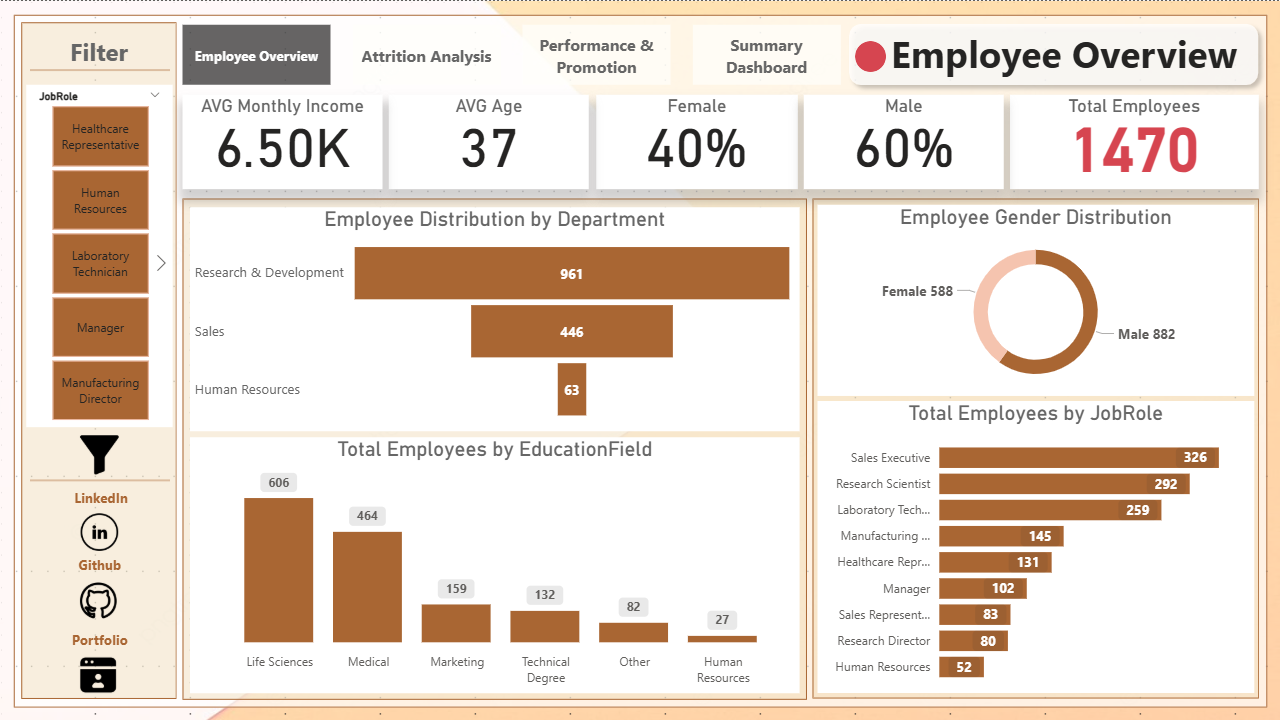

Layout of this report page (visuals, bound fields, positions):
{"tool":"powerbi","page":{"name":"Employee Overview","canvas":[1280,720],"ordinal":0},"visuals":[{"type":"shape","box":[13.9,13.9,1253.6,692.9],"z":0},{"type":"shape","box":[840.3,13.9,427.1,79.3],"z":1000},{"type":"shape","box":[812.3,197.8,446.6,500.1],"z":2000},{"type":"shape","box":[182.9,197.8,624.5,501.3],"z":3000},{"type":"textbox","box":[868.2,22.3,391,62.6],"z":4000},{"type":"shape","box":[854.6,39.8,31.1,31.1],"z":5000},{"type":"card","title":"Total Employees","fields":{"Values":["Table.Total Employees"]},"box":[1010.1,93.3,248.8,94.5],"z":6000},{"type":"card","title":"Female","fields":{"Values":["Table.Female %"]},"box":[595.9,93.3,201.5,94.5],"z":7000},{"type":"card","title":"Male","fields":{"Values":["Table.Male %"]},"box":[803.6,93.3,200.3,94.5],"z":8000},{"type":"card","title":"AVG Age","fields":{"Values":["Table.Avg Age"]},"box":[389.4,93.3,200.3,94.5],"z":9000},{"type":"card","title":"AVG Monthly Income","fields":{"Values":["Table.Avg Monthly Income"]},"box":[182.9,93.3,200.3,94.5],"z":10000},{"type":"donutChart","title":"Employee Gender Distribution","fields":{"Category":["HR Analytics Data.Gender"],"Y":["Measure.Total Employees"]},"box":[817.3,204,436.6,191.6],"z":11000},{"type":"clusteredBarChart","fields":{"Category":["HR Analytics Data.JobRole","HR Analytics Data.Department"],"Y":["Measure.Total Employees"]},"box":[817.3,400.6,436.6,292.3],"z":12000},{"type":"columnChart","fields":{"Category":["HR Analytics Data.EducationField"],"Y":["Measure.Total Employees"]},"box":[190.3,436.6,609.5,256.3],"z":13000},{"type":"funnel","title":"Employee Distribution by Department","fields":{"Y":["Measure.Total Employees"],"Category":["HR Analytics Data.Department"]},"box":[190.3,206.5,609.5,223.9],"z":14000},{"type":"shape","box":[21.1,21.1,155.5,676.7],"z":15000},{"type":"textbox","box":[33.6,29.9,130.6,51],"z":16000},{"type":"pageNavigator","box":[182.9,23.6,658.1,61],"z":17000},{"type":"shape","box":[30.2,61.6,140.1,15.7],"z":18000},{"type":"slicer","fields":{"Values":["HR Analytics Data.JobRole"]},"box":[26.2,83.8,146.2,342.5],"z":19000},{"type":"image","box":[75,426.2,48.8,55],"z":20000},{"type":"image","box":[68.8,576.2,58.8,46.2],"z":21000},{"type":"image","box":[75,507.5,48.8,47.5],"z":22000},{"type":"image","box":[75,650,46.2,48.8],"z":23000},{"type":"textbox","box":[56.2,482.5,90,30],"z":24000},{"type":"shape","box":[30,471.2,140,16.2],"z":25000},{"type":"textbox","box":[55,550,90,30],"z":26000},{"type":"textbox","box":[55,625,90,30],"z":27000}]}

Visuals, with their boxes in screenshot pixels (x1, y1, x2, y2), scaled from the page's 1280x720 canvas onto the 1280x720 screenshot:
shape: [left=14, top=14, right=1268, bottom=707]
shape: [left=840, top=14, right=1267, bottom=93]
shape: [left=812, top=198, right=1259, bottom=698]
shape: [left=183, top=198, right=807, bottom=699]
textbox: [left=868, top=22, right=1259, bottom=85]
shape: [left=855, top=40, right=886, bottom=71]
"Total Employees" card: [left=1010, top=93, right=1259, bottom=188]
"Female" card: [left=596, top=93, right=797, bottom=188]
"Male" card: [left=804, top=93, right=1004, bottom=188]
"AVG Age" card: [left=389, top=93, right=590, bottom=188]
"AVG Monthly Income" card: [left=183, top=93, right=383, bottom=188]
"Employee Gender Distribution" donutChart: [left=817, top=204, right=1254, bottom=396]
clusteredBarChart - HR Analytics Data.JobRole x HR Analytics Data.Department: [left=817, top=401, right=1254, bottom=693]
columnChart - HR Analytics Data.EducationField x Measure.Total Employees: [left=190, top=437, right=800, bottom=693]
"Employee Distribution by Department" funnel: [left=190, top=206, right=800, bottom=430]
shape: [left=21, top=21, right=177, bottom=698]
textbox: [left=34, top=30, right=164, bottom=81]
pageNavigator: [left=183, top=24, right=841, bottom=85]
shape: [left=30, top=62, right=170, bottom=77]
slicer - HR Analytics Data.JobRole: [left=26, top=84, right=172, bottom=426]
image: [left=75, top=426, right=124, bottom=481]
image: [left=69, top=576, right=128, bottom=622]
image: [left=75, top=508, right=124, bottom=555]
image: [left=75, top=650, right=121, bottom=699]
textbox: [left=56, top=482, right=146, bottom=512]
shape: [left=30, top=471, right=170, bottom=487]
textbox: [left=55, top=550, right=145, bottom=580]
textbox: [left=55, top=625, right=145, bottom=655]
